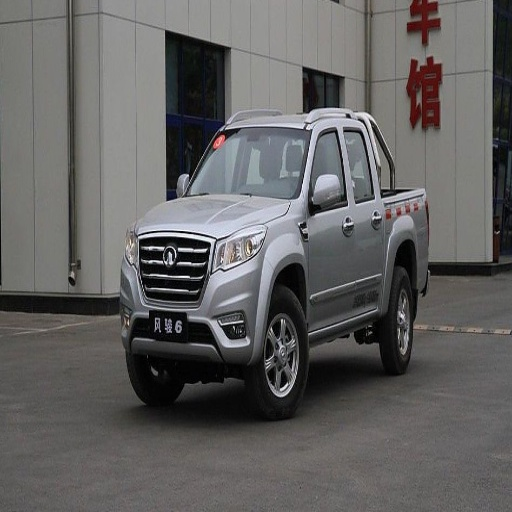front_bumper: (121, 232, 272, 363)
front_glass: (185, 128, 309, 198)
front_left_door: (306, 124, 357, 329)
trunk: (390, 192, 435, 269)
